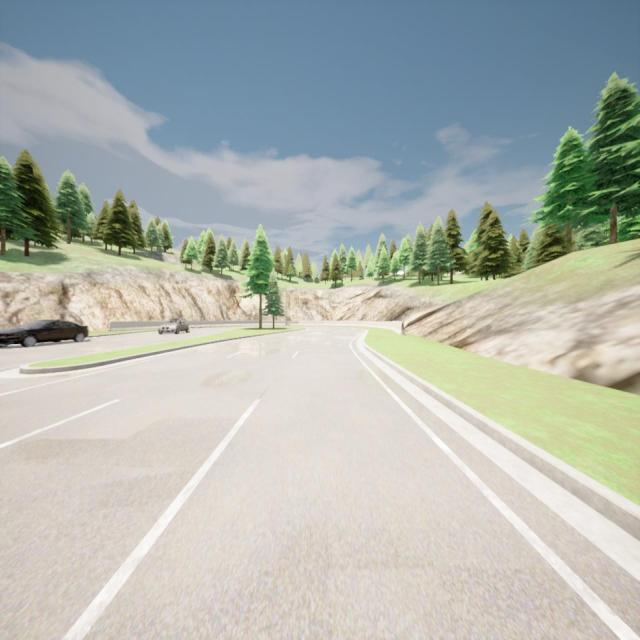Vehicle: (0, 319, 88, 348), (158, 318, 190, 334)
